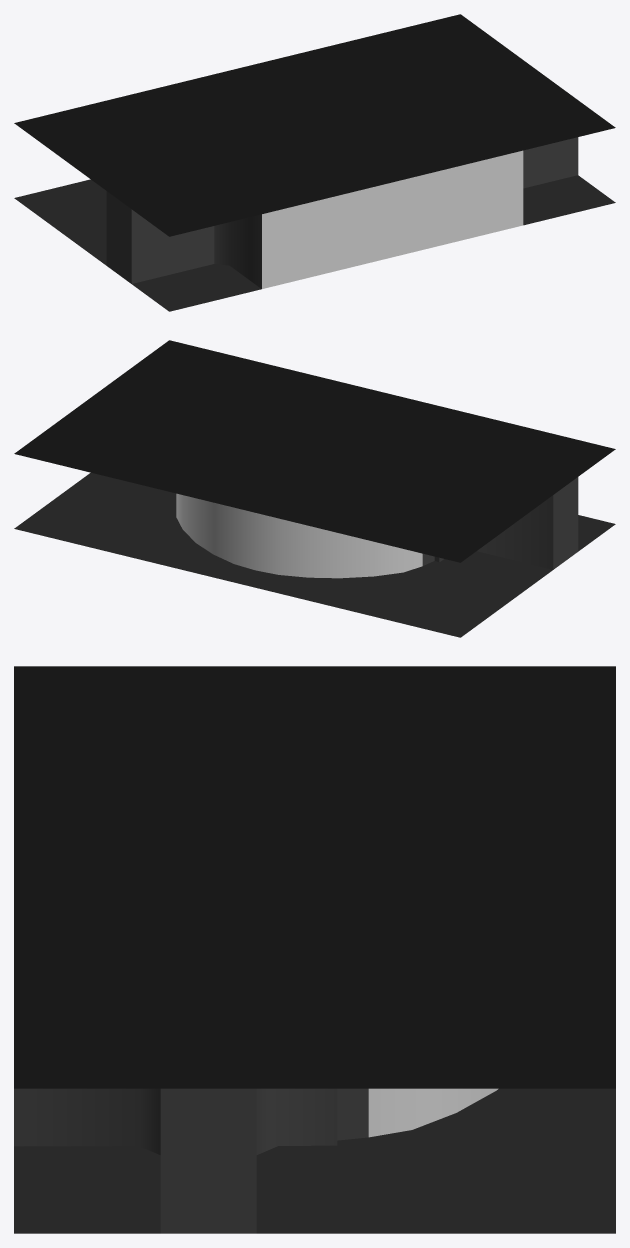
File: gnuchanos show studio.glb
3 renders of one model, top to bottom at view 1: azimuth 30°, elevation 25°; view 2: azimuth 150°, elevation 25°; view 3: azimuth 270°, elevation 25°, orthographic. The views are drawn at different scales.
Parts seen in each view (by area): view 1: level; view 2: level, green_screen; view 3: level, green_screen.
Part boxes in pixels (x1,y1,x2,y2): level: [14, 14, 615, 311]; level: [14, 340, 615, 637]; green_screen: [176, 493, 422, 578]; level: [14, 666, 615, 1233]; green_screen: [368, 1088, 498, 1137].
Bounding box in the file's own units: 30.02 × 4.81 × 18.09.
Materials: 3 (1 with a texture image).
